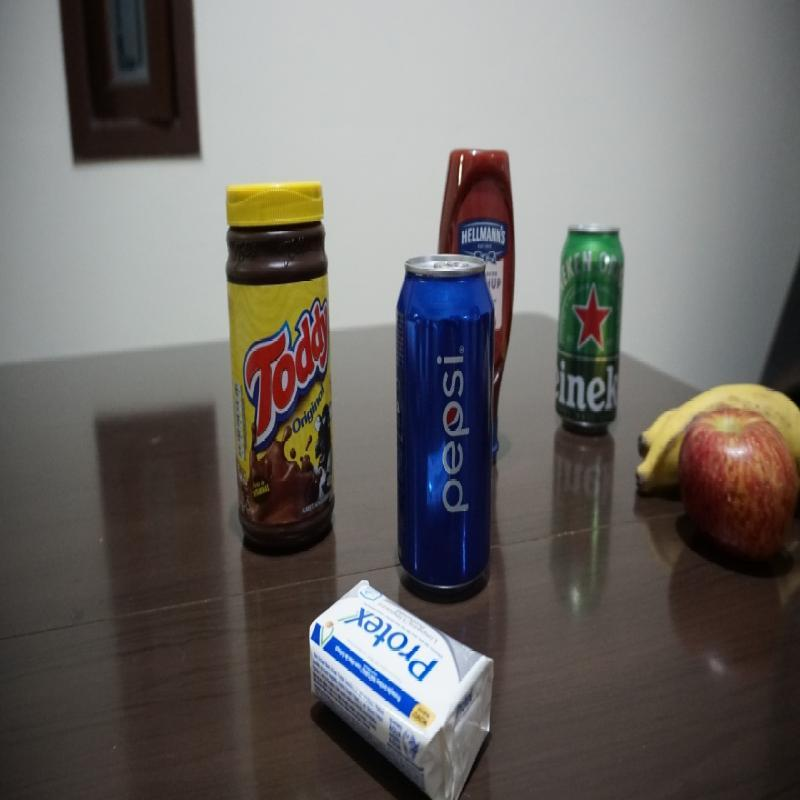Apple: (680, 407, 795, 547)
Beer can: (554, 221, 624, 429)
Chocolate Powder: (225, 175, 337, 538)
Ketchup: (445, 146, 516, 246)
Soap: (310, 581, 496, 792)
Soda can: (397, 251, 492, 576)
